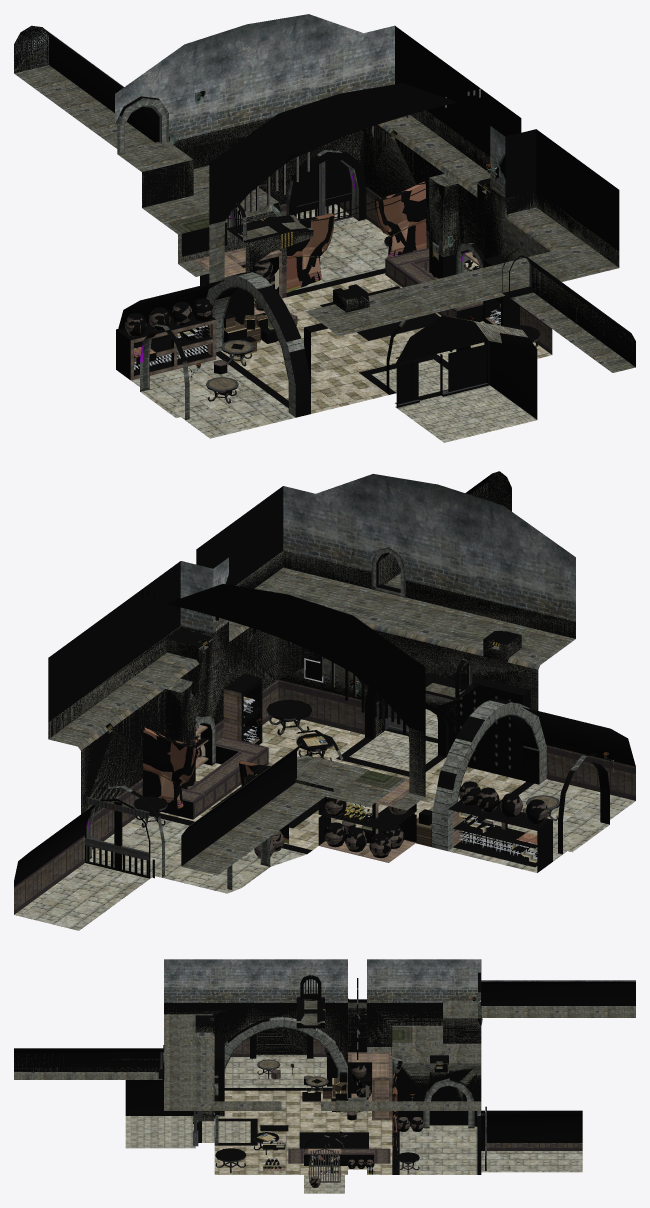
Rendered from tavern-room.glb.
3 renders of one model, top to bottom at view 1: azimuth 30°, elevation 25°; view 2: azimuth 150°, elevation 25°; view 3: azimuth 270°, elevation 25°, orthographic. The views are drawn at different scales.
Parts seen in each view (by area): view 1: BackSide_0, FrontSide_13, FrontSide_1, FrontSide_6, FrontSide_8, FrontSide_10, FrontSide_9, FrontSide_4, FrontSide_7, FrontSide_5; view 2: BackSide_0, FrontSide_13, FrontSide_1, FrontSide_6, FrontSide_4, FrontSide_10, FrontSide_8, FrontSide_9, FrontSide_7, FrontSide_5; view 3: BackSide_0, FrontSide_13, FrontSide_1, FrontSide_6, FrontSide_8, FrontSide_4, FrontSide_10, FrontSide_7, FrontSide_5, FrontSide_9, FrontSide_3.
Part boxes in pixels (left/top/right/bottom): BackSide_0: left=14, top=26, right=635, bottom=419; FrontSide_13: left=14, top=65, right=635, bottom=372; FrontSide_1: left=14, top=14, right=505, bottom=198; FrontSide_6: left=131, top=204, right=536, bottom=442; FrontSide_8: left=221, top=273, right=551, bottom=413; FrontSide_10: left=115, top=98, right=526, bottom=420; FrontSide_9: left=134, top=181, right=500, bottom=370; FrontSide_4: left=125, top=186, right=552, bottom=366; FrontSide_7: left=130, top=247, right=500, bottom=380; FrontSide_5: left=124, top=88, right=540, bottom=405; BackSide_0: left=14, top=471, right=635, bottom=886; FrontSide_13: left=48, top=472, right=575, bottom=875; FrontSide_1: left=180, top=474, right=575, bottom=827; FrontSide_6: left=14, top=709, right=635, bottom=930; FrontSide_4: left=14, top=679, right=635, bottom=914; FrontSide_10: left=87, top=547, right=588, bottom=889; FrontSide_8: left=159, top=717, right=525, bottom=850; FrontSide_9: left=143, top=658, right=537, bottom=862; FrontSide_7: left=195, top=689, right=505, bottom=862; FrontSide_5: left=85, top=555, right=559, bottom=877; BackSide_0: left=14, top=959, right=635, bottom=1187; FrontSide_13: left=14, top=999, right=635, bottom=1121; FrontSide_1: left=164, top=959, right=635, bottom=1002; FrontSide_6: left=125, top=1055, right=582, bottom=1193; FrontSide_8: left=214, top=1090, right=392, bottom=1174; FrontSide_4: left=231, top=1038, right=582, bottom=1186; FrontSide_10: left=163, top=975, right=484, bottom=1149; FrontSide_7: left=263, top=1052, right=392, bottom=1175; FrontSide_5: left=160, top=981, right=486, bottom=1182; FrontSide_9: left=214, top=1073, right=397, bottom=1173; FrontSide_3: left=336, top=1027, right=412, bottom=1112.
Bounding box in the file's own units: 30.92 × 16.34 × 58.77.
Materials: 16 (16 with a texture image).
